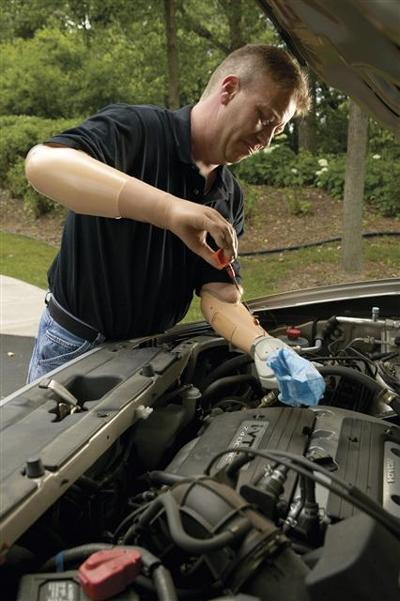person: (25, 45, 322, 410)
